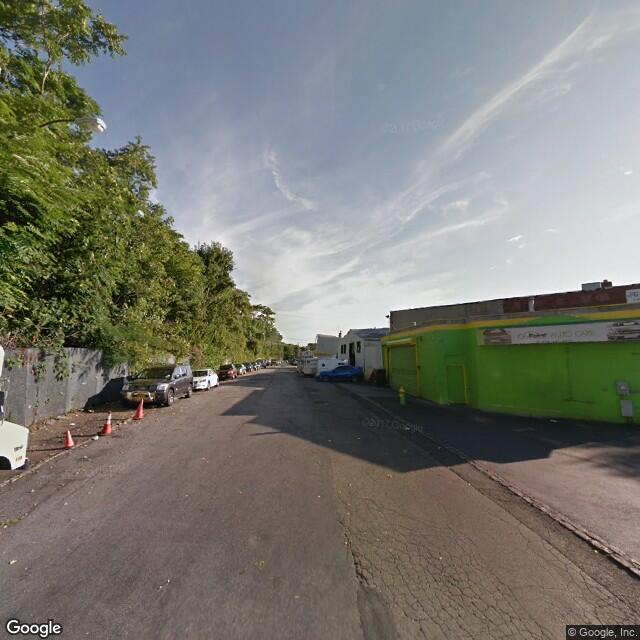litter: (394, 420, 417, 437), (87, 428, 105, 444)
